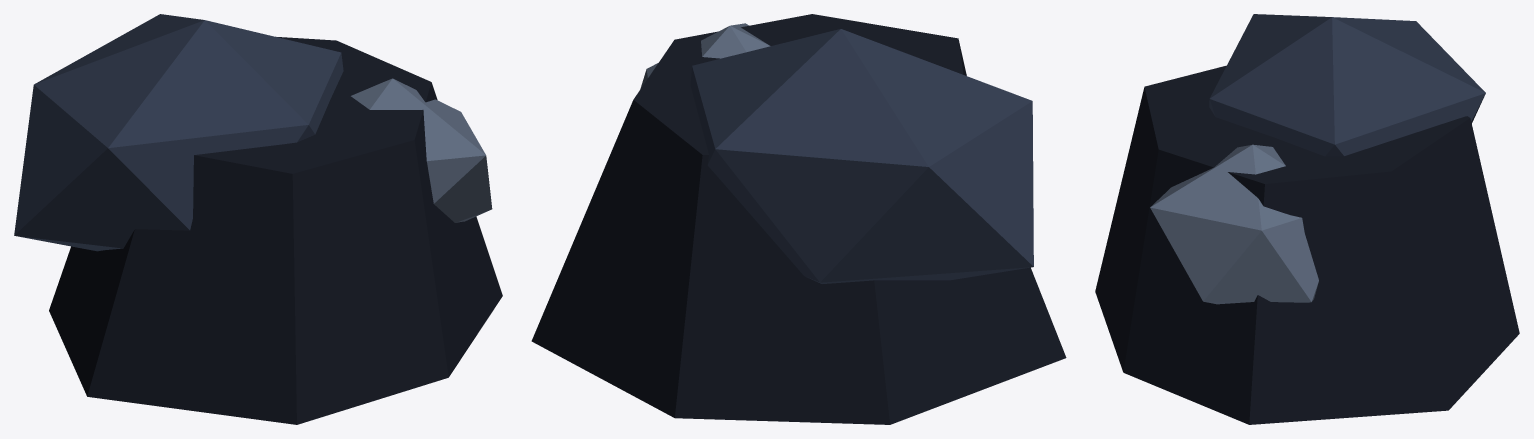
Rendered from moon_crater_rocks.glb.
The picture shows the model from 3 angles, left to right: view 1: azimuth 30°, elevation 25°; view 2: azimuth 150°, elevation 25°; view 3: azimuth 270°, elevation 25°; orthographic projection. The views are drawn at different scales.
Visible parts, largest first — view 1: MoonRock; view 2: MoonRock; view 3: MoonRock.
Part boxes in pixels (x1,y1,x2,y2): MoonRock: (14,14,502,424); MoonRock: (531,14,1066,424); MoonRock: (1095,14,1519,424).
Size of the model in its own units: 4.54 by 3.06 by 4.
